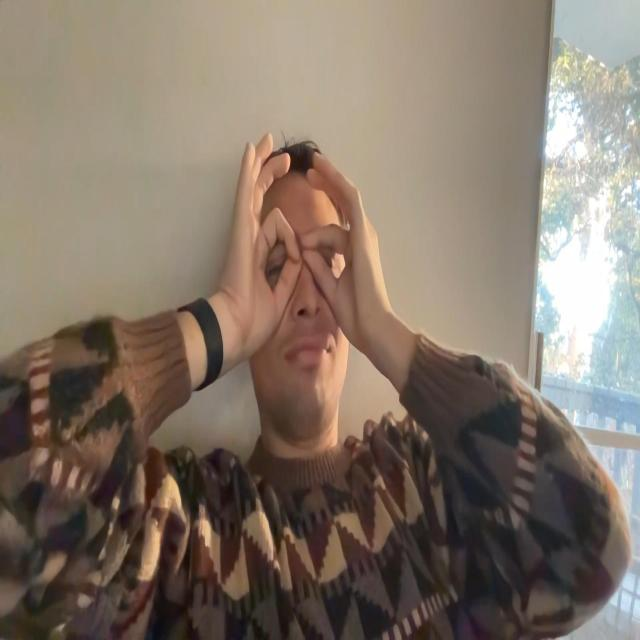face: (252, 186, 350, 439)
